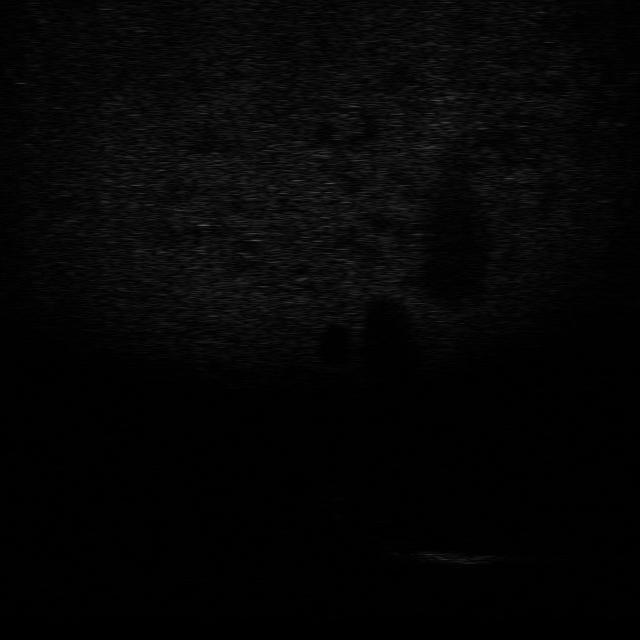ball: (314, 482, 351, 503)
metal bucket: (413, 542, 502, 567)
tyre: (360, 520, 421, 546)
